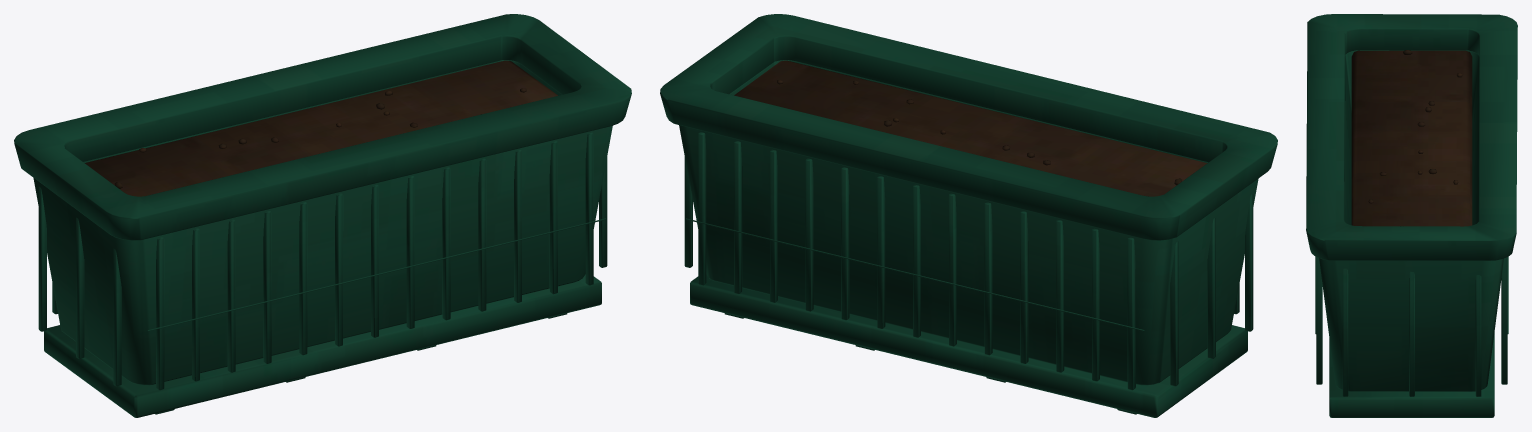
Rendered from planter-lod2.glb.
3 renders of one model, left to right at view 1: azimuth 30°, elevation 25°; view 2: azimuth 150°, elevation 25°; view 3: azimuth 270°, elevation 25°, orthographic. The views are drawn at different scales.
Parts seen in each view (by area): view 1: GEO-Planter-LOD2; view 2: GEO-Planter-LOD2; view 3: GEO-Planter-LOD2.
Part boxes in pixels (box(x1,y1,x2,y2)): GEO-Planter-LOD2: box(14, 14, 631, 417); GEO-Planter-LOD2: box(660, 14, 1277, 417); GEO-Planter-LOD2: box(1306, 14, 1517, 417).
Bounding box in the file's own units: 0.5977 × 0.2443 × 0.2354.
Materials: 2 (2 with a texture image).
